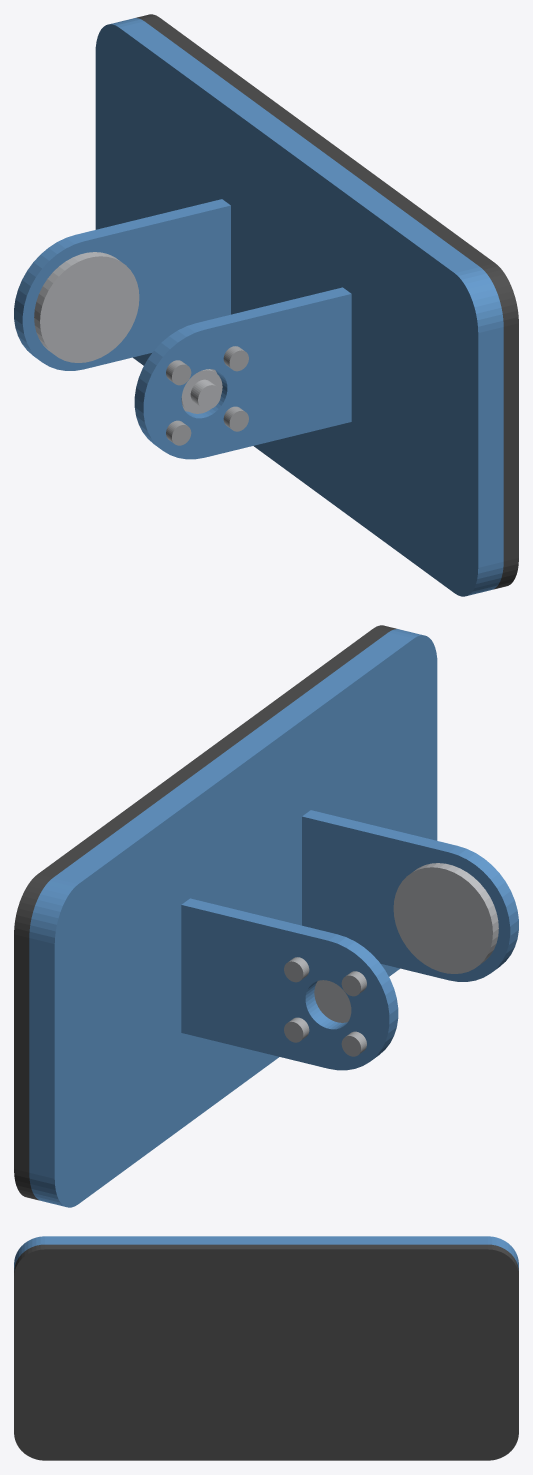
Rendered from ankle_roll.glb.
3 views of the same model, one above another, from view 1: azimuth 30°, elevation 25°; view 2: azimuth 150°, elevation 25°; view 3: azimuth 270°, elevation 25° (orthographic). The views are drawn at different scales.
Visible parts, largest first — view 1: geometry_11, geometry_10, geometry_1, geometry_0; view 2: geometry_11, geometry_10, geometry_0, geometry_1; view 3: geometry_10, geometry_11.
Boxes of the visible parts, x1,y1,x2,y2 form: geometry_11: [14, 18, 503, 596]; geometry_10: [136, 14, 518, 589]; geometry_1: [34, 252, 139, 362]; geometry_0: [181, 369, 222, 413]; geometry_11: [29, 629, 518, 1207]; geometry_10: [14, 625, 396, 1200]; geometry_0: [393, 863, 498, 973]; geometry_1: [314, 980, 351, 1022]; geometry_10: [14, 1244, 518, 1460]; geometry_11: [14, 1236, 518, 1270].
Bounding box in the file's own units: 0.0488 × 0.06 × 0.13.
